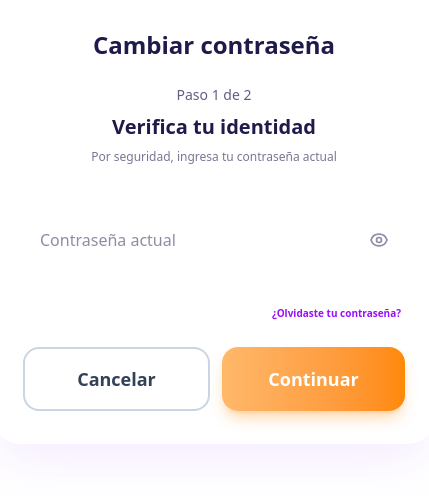
Test case: ChangePasswordPage step 1 › shows an error when step 1 is submitted empty
Click the button "Continuar".
click(314, 379)  # box [222,347,405,411]
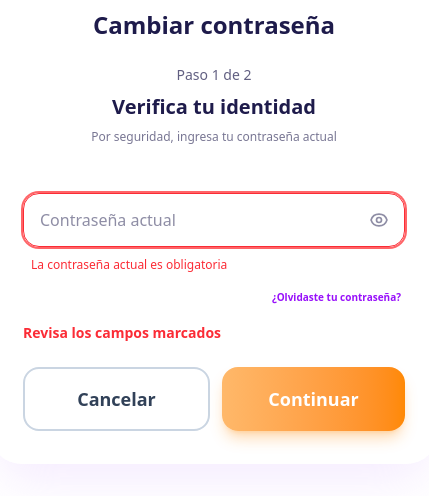
Check: the text "La contraseña actual es obligatoria" is shown, box [31,256,227,273]
Check: the text "Revisa los campos marcados" is shown, box [23,323,221,342]
